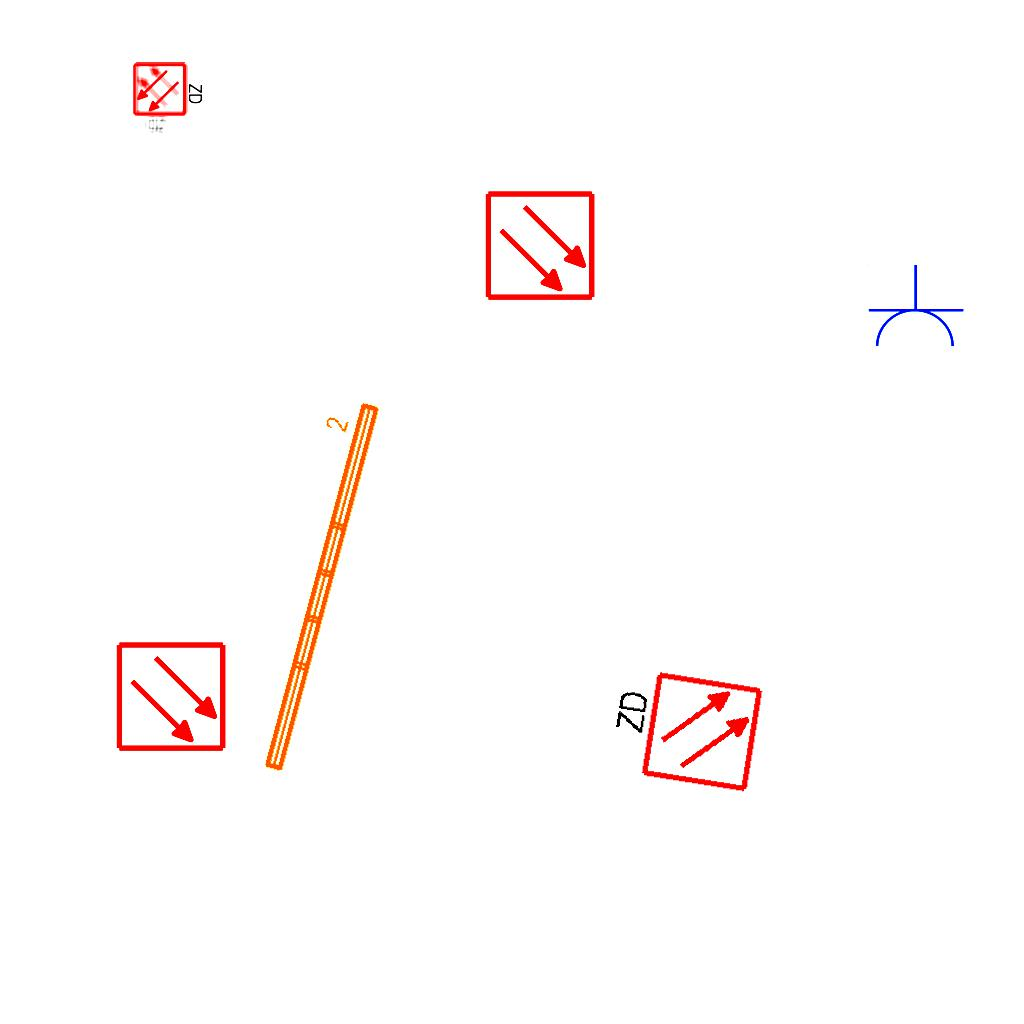Ambulanz_Pendelleuchte_LED: (232, 389, 387, 779)
RMO_Rauchmelder_optischer: (484, 189, 597, 302), (115, 640, 228, 753)
Schukosteckdose_einfach: (865, 264, 965, 351)
ZD_Melder_in_Zwischendecke_mit_Revisionsoeffnung_mind_40_x_40_cm: (600, 662, 766, 799), (132, 60, 206, 117), (133, 61, 190, 135)
